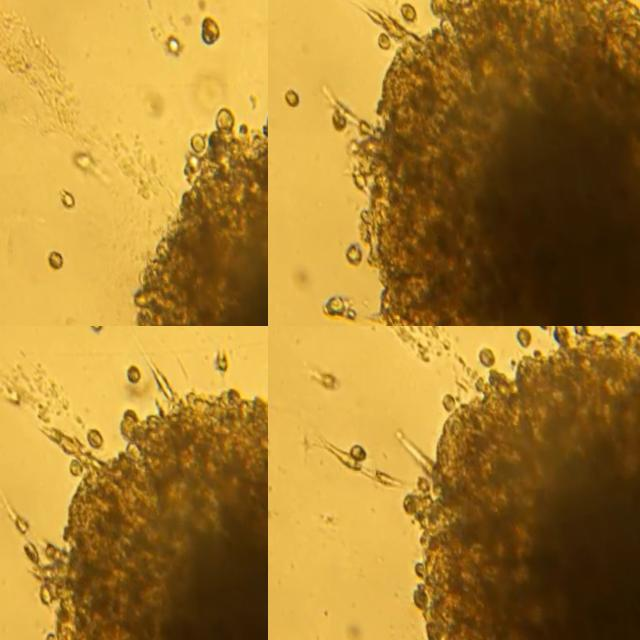cell: (324, 444, 353, 469), (365, 464, 393, 484), (201, 7, 216, 37), (310, 290, 330, 311), (80, 421, 98, 441), (333, 242, 350, 261), (313, 368, 332, 385), (163, 28, 177, 51), (39, 248, 55, 268), (273, 85, 291, 102), (53, 187, 69, 205), (393, 0, 412, 15), (121, 358, 136, 377), (7, 511, 23, 528), (473, 341, 488, 359), (342, 442, 359, 457), (370, 27, 383, 46), (434, 387, 448, 404), (509, 326, 523, 342), (332, 300, 344, 318), (213, 345, 224, 364)
tumor_mass: (389, 326, 640, 640), (12, 333, 268, 640), (126, 99, 268, 326)
